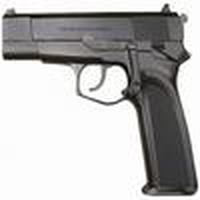gun: (2, 9, 199, 196)
